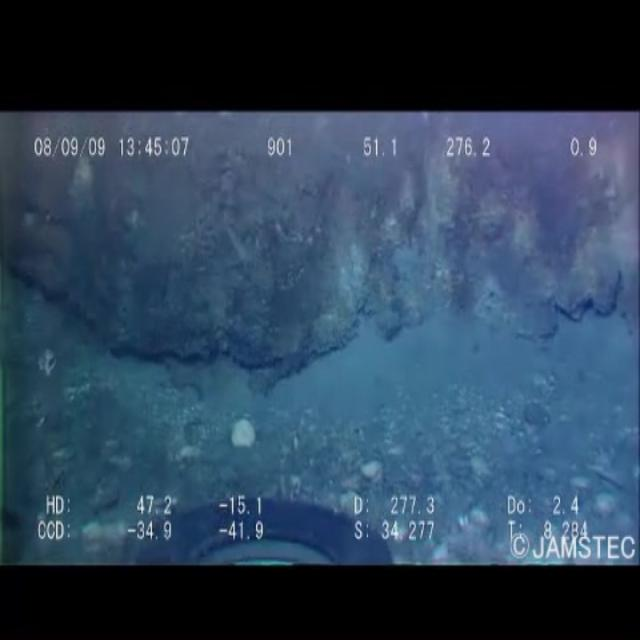Rubber: (131, 486, 409, 567)
